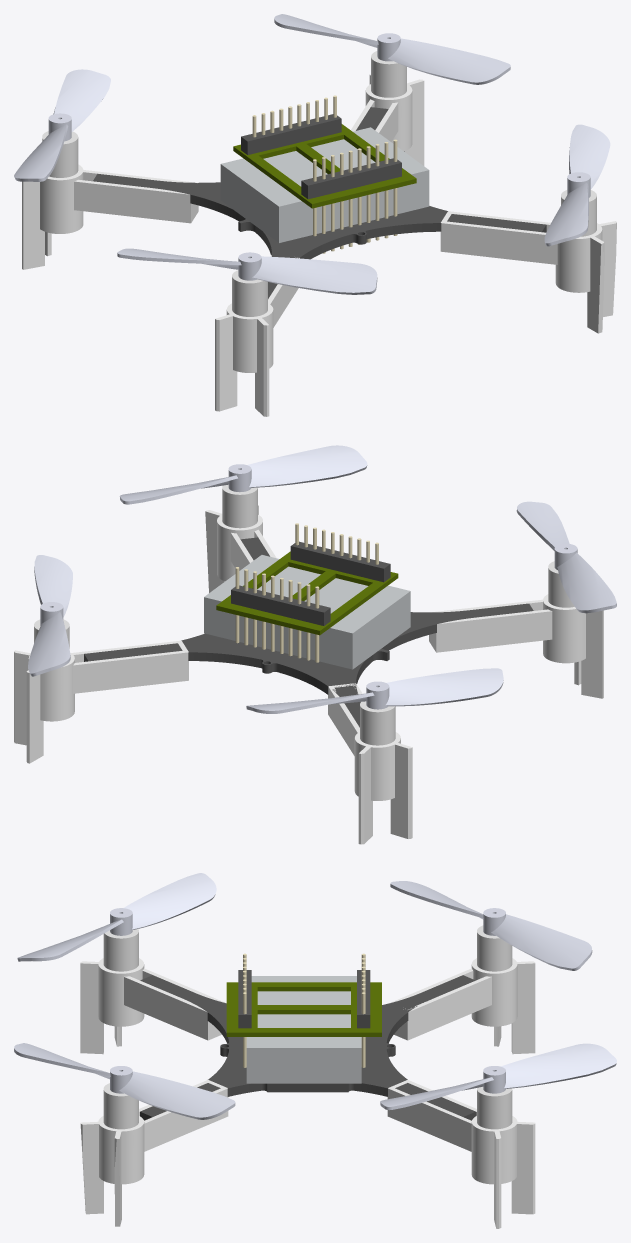
The picture shows the model from 3 angles, top to bottom: view 1: azimuth 30°, elevation 25°; view 2: azimuth 150°, elevation 25°; view 3: azimuth 270°, elevation 25°; orthographic projection.
Parts seen in each view (by area): view 1: Part1, MotorMountsSlanted_006, pcb, Propeller_mockup_002, MotorMountsSlanted_003, Propeller_mockup, MotorMountsSlanted_001, MotorMountsSlanted_004, Propeller_mockup_003, Propeller_mockup_001, Part3, MotorMountsSlanted_005 (+7 smaller); view 2: Part1, pcb, Propeller_mockup_001, Propeller_mockup_003, MotorMountsSlanted_004, MotorMountsSlanted_005, MotorMountsSlanted_002, MotorMountsSlanted, MotorMountsSlanted_003, Propeller_mockup_002, Propeller_mockup, Part3 (+7 smaller); view 3: Part1, pcb, MotorMountsSlanted_006, Part3, MotorMountsSlanted_005, Propeller_mockup, Propeller_mockup_003, Propeller_mockup_001, Propeller_mockup_002, MotorMountsSlanted_004, MotorMountsSlanted_003, MotorMountsSlanted_001 (+8 smaller).
Boxes of the visible parts, x1,y1,x2,y2 form: Part1: [220, 127, 429, 242]; MotorMountsSlanted_006: [440, 211, 616, 333]; pcb: [93, 107, 546, 298]; Propeller_mockup_002: [117, 248, 377, 294]; MotorMountsSlanted_003: [215, 303, 273, 416]; Propeller_mockup: [274, 14, 510, 84]; MotorMountsSlanted_001: [74, 170, 198, 223]; MotorMountsSlanted_004: [22, 164, 83, 269]; Propeller_mockup_003: [14, 69, 110, 181]; Propeller_mockup_001: [544, 124, 610, 246]; Part3: [233, 124, 416, 208]; MotorMountsSlanted_005: [365, 74, 424, 165]; Part1: [204, 555, 410, 669]; pcb: [84, 537, 533, 727]; Propeller_mockup_001: [119, 445, 367, 504]; Propeller_mockup_003: [246, 668, 503, 713]; MotorMountsSlanted_004: [354, 732, 412, 844]; MotorMountsSlanted_005: [14, 650, 74, 763]; MotorMountsSlanted_002: [429, 599, 552, 652]; MotorMountsSlanted: [71, 640, 188, 693]; MotorMountsSlanted_003: [543, 594, 603, 698]; Propeller_mockup_002: [516, 501, 616, 613]; Propeller_mockup: [28, 555, 72, 676]; Part3: [216, 551, 398, 635]; Part1: [246, 976, 361, 1083]; pcb: [140, 975, 475, 1120]; MotorMountsSlanted_006: [80, 1080, 228, 1226]; Part3: [226, 982, 381, 1036]; MotorMountsSlanted_005: [471, 1116, 535, 1228]; Propeller_mockup: [380, 1043, 616, 1110]; Propeller_mockup_003: [390, 881, 592, 970]; Propeller_mockup_001: [14, 1043, 235, 1119]; Propeller_mockup_002: [17, 873, 216, 961]; MotorMountsSlanted_004: [471, 958, 535, 1054]; MotorMountsSlanted_003: [80, 958, 144, 1054]; MotorMountsSlanted_001: [389, 968, 491, 1040].
Bounding box in the file's own units: 0.098 × 0.1055 × 0.031.
